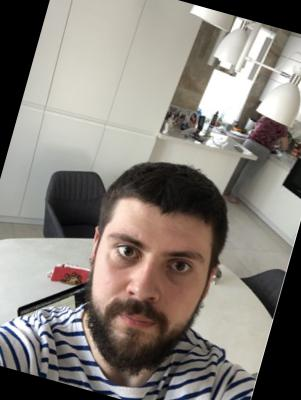without_mask: (70, 212, 216, 387)
